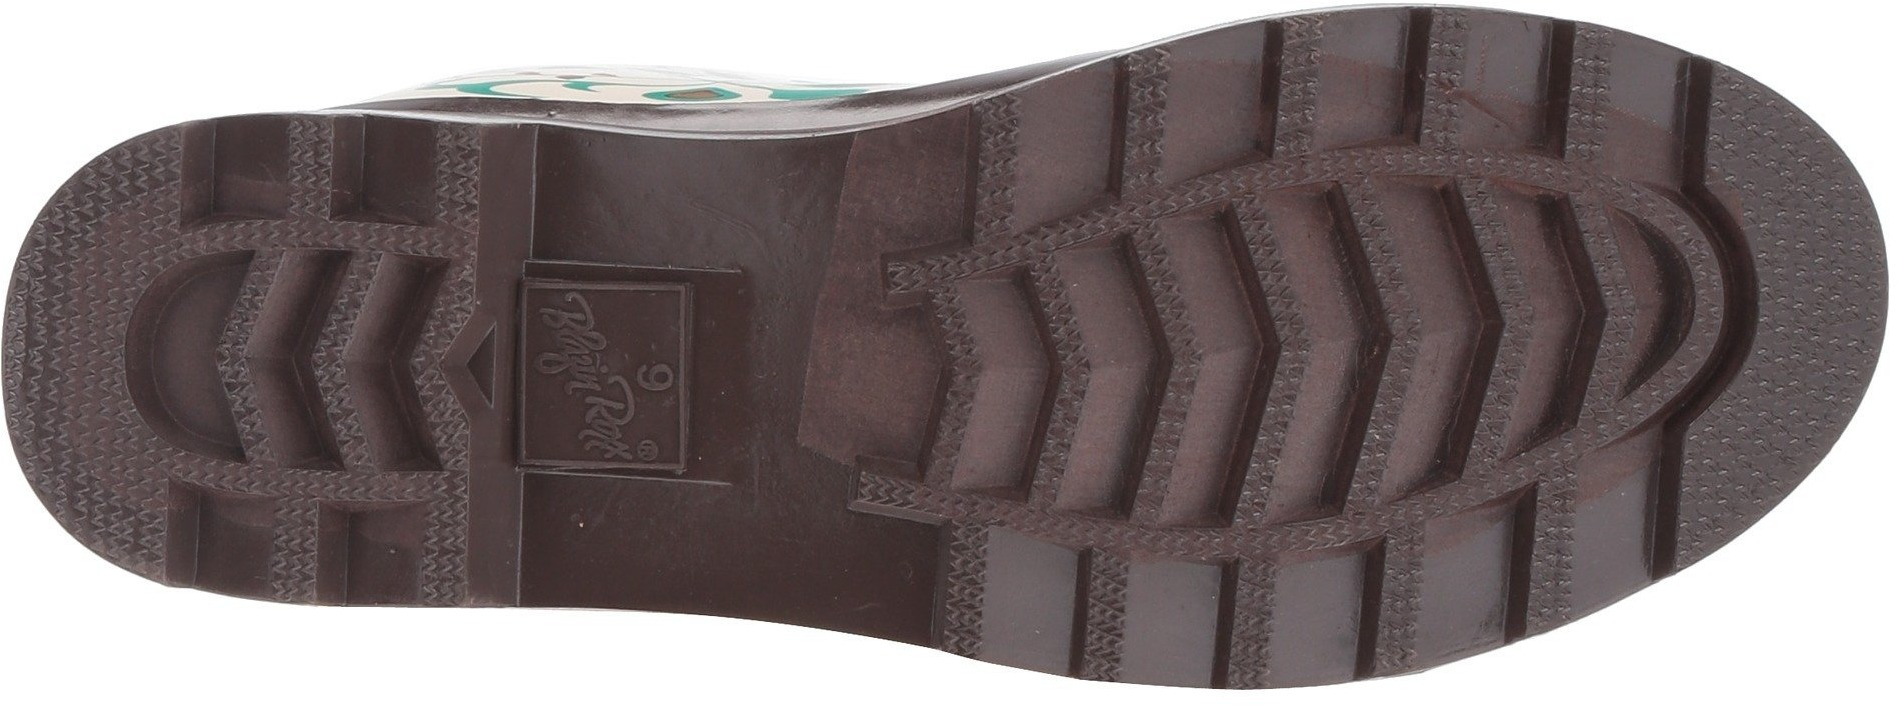chevron: (1213, 163, 1611, 527), (195, 239, 445, 482), (892, 258, 1136, 504)
circle: (629, 437, 665, 466)
exclude: (166, 580, 939, 703)
other: (684, 371, 890, 567), (690, 180, 887, 366), (1763, 223, 1880, 346), (8, 307, 127, 424)
text: (534, 297, 615, 376), (571, 385, 648, 462), (629, 437, 665, 466)
